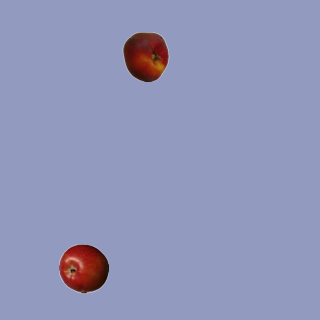Apple Braeburn: (58, 243, 108, 293)
Nectarine Flat: (120, 31, 170, 81)
